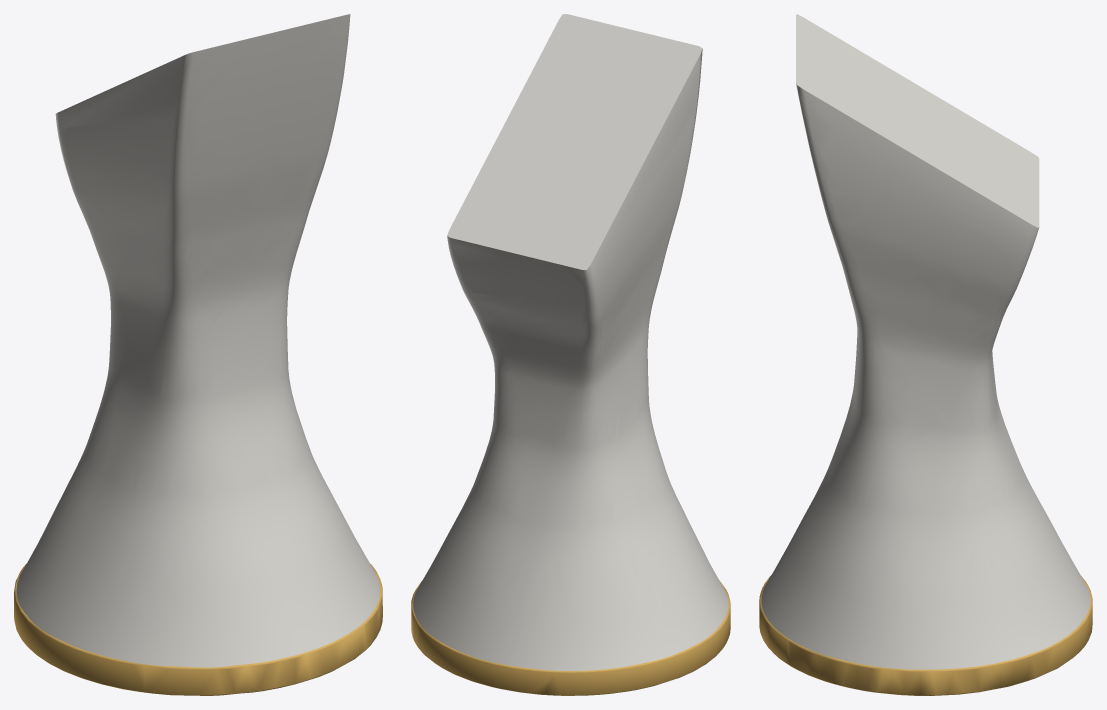
File: knight-white.glb
3 renders of one model, left to right at view 1: azimuth 30°, elevation 25°; view 2: azimuth 150°, elevation 25°; view 3: azimuth 270°, elevation 25°, orthographic. The views are drawn at different scales.
Parts seen in each view (by area): view 1: 03_jezdec_telo_0, 03_jezdec_podstavec; view 2: 03_jezdec_telo_0, 03_jezdec_podstavec; view 3: 03_jezdec_telo_0, 03_jezdec_podstavec.
Part boxes in pixels (bbox=[...]): 03_jezdec_telo_0: bbox=[16, 14, 380, 667]; 03_jezdec_podstavec: bbox=[14, 563, 382, 695]; 03_jezdec_telo_0: bbox=[413, 14, 728, 671]; 03_jezdec_podstavec: bbox=[411, 580, 730, 695]; 03_jezdec_telo_0: bbox=[761, 14, 1090, 669]; 03_jezdec_podstavec: bbox=[759, 576, 1092, 695].
Bounding box in the file's own units: 0.7276 × 1.39 × 0.7276.
